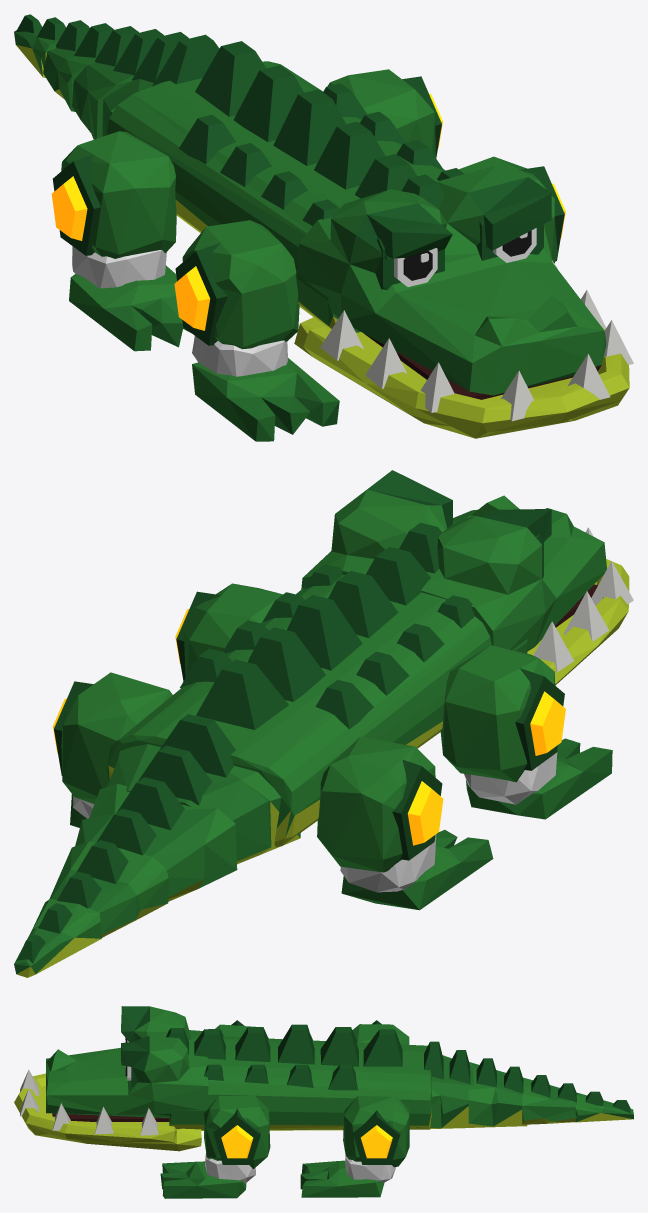
The model's file is BigCroc.fbx.
3 views of the same model, one above another, from view 1: azimuth 30°, elevation 25°; view 2: azimuth 150°, elevation 25°; view 3: azimuth 270°, elevation 25° (orthographic). The views are drawn at different scales.
Visible parts, largest first — view 1: BigCroc_Head, BigCroc_Body, BigCroc_Jaw, BigCroc_RightFrontUpper, BigCroc_RightBackUpper, BigCroc_RightFrontFoot, BigCroc_RightBackFoot, BigCroc_LeftBackUpper, BigCroc_Tail2, BigCroc_Tail1, BigCroc_Tail3, BigCroc_RightBackLower (+7 smaller); view 2: BigCroc_Body, BigCroc_Head, BigCroc_RightBackUpper, BigCroc_RightFrontUpper, BigCroc_Tail1, BigCroc_Tail2, BigCroc_LeftBackUpper, BigCroc_Tail3, BigCroc_Jaw, BigCroc_LeftFrontUpper, BigCroc_RightFrontFoot, BigCroc_RightBackFoot (+5 smaller); view 3: BigCroc_Body, BigCroc_Head, BigCroc_Jaw, BigCroc_LeftBackUpper, BigCroc_LeftFrontUpper, BigCroc_Tail2, BigCroc_Tail1, BigCroc_LeftFrontFoot, BigCroc_LeftBackFoot, BigCroc_Tail3, BigCroc_Tail4, BigCroc_LeftBackLower (+5 smaller).
Part boxes in pixels (left/top/right/bottom): BigCroc_Head: left=298, top=165, right=606, bottom=399; BigCroc_Body: left=107, top=41, right=463, bottom=332; BigCroc_Jaw: left=294, top=260, right=633, bottom=438; BigCroc_RightFrontUpper: left=175, top=220, right=299, bottom=349; BigCroc_RightBackUpper: left=52, top=131, right=176, bottom=258; BigCroc_RightFrontFoot: left=192, top=358, right=339, bottom=441; BigCroc_RightBackFoot: left=69, top=265, right=191, bottom=351; BigCroc_LeftBackUpper: left=327, top=69, right=441, bottom=158; BigCroc_Tail2: left=72, top=26, right=163, bottom=139; BigCroc_Tail1: left=102, top=32, right=219, bottom=136; BigCroc_Tail3: left=43, top=20, right=113, bottom=111; BigCroc_RightBackLower: left=72, top=246, right=166, bottom=288; BigCroc_Body: left=107, top=547, right=527, bottom=847; BigCroc_Head: left=301, top=470, right=606, bottom=651; BigCroc_RightBackUpper: left=317, top=736, right=442, bottom=872; BigCroc_RightFrontUpper: left=440, top=645, right=564, bottom=782; BigCroc_Tail1: left=107, top=714, right=300, bottom=864; BigCroc_Tail2: left=75, top=777, right=237, bottom=901; BigCroc_LeftBackUpper: left=54, top=672, right=172, bottom=803; BigCroc_Tail3: left=49, top=840, right=168, bottom=937; BigCroc_Jaw: left=527, top=527, right=633, bottom=685; BigCroc_LeftFrontUpper: left=176, top=583, right=282, bottom=681; BigCroc_RightFrontFoot: left=466, top=738, right=612, bottom=819; BigCroc_RightBackFoot: left=341, top=829, right=493, bottom=910; BigCroc_Body: left=169, top=1024, right=431, bottom=1130; BigCroc_Head: left=46, top=1006, right=208, bottom=1121; BigCroc_Jaw: left=14, top=1069, right=201, bottom=1151; BigCroc_LeftBackUpper: left=343, top=1096, right=409, bottom=1167; BigCroc_LeftFrontUpper: left=204, top=1095, right=270, bottom=1168; BigCroc_Tail2: left=468, top=1058, right=527, bottom=1127; BigCroc_Tail1: left=415, top=1041, right=473, bottom=1128; BigCroc_LeftFrontFoot: left=160, top=1161, right=246, bottom=1198; BigCroc_LeftBackFoot: left=300, top=1160, right=384, bottom=1197; BigCroc_Tail3: left=522, top=1075, right=579, bottom=1124; BigCroc_Tail4: left=575, top=1091, right=633, bottom=1122; BigCroc_LeftBackLower: left=345, top=1156, right=395, bottom=1182.
Size of the model in its own units: 37.2 by 21.25 by 95.58.
